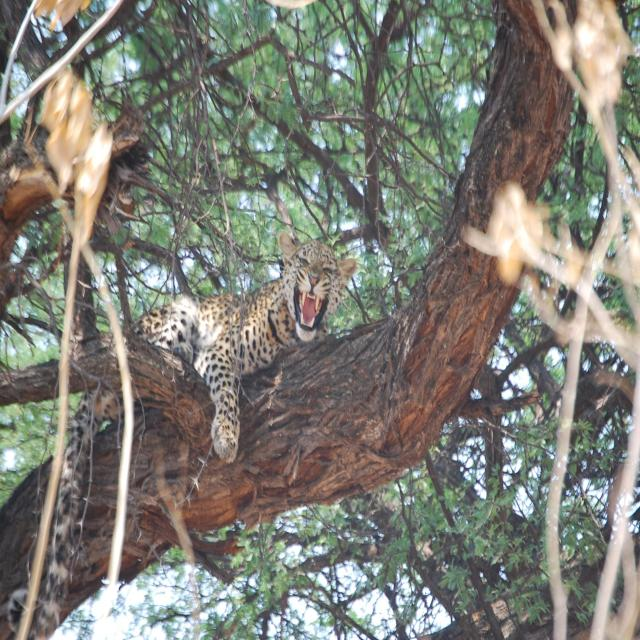Leopard: (11, 236, 357, 640)
